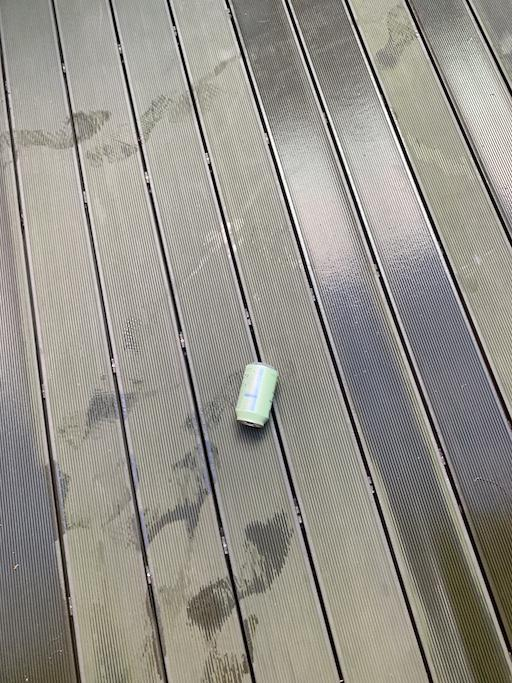Aluminum can: (220, 358, 301, 438)
